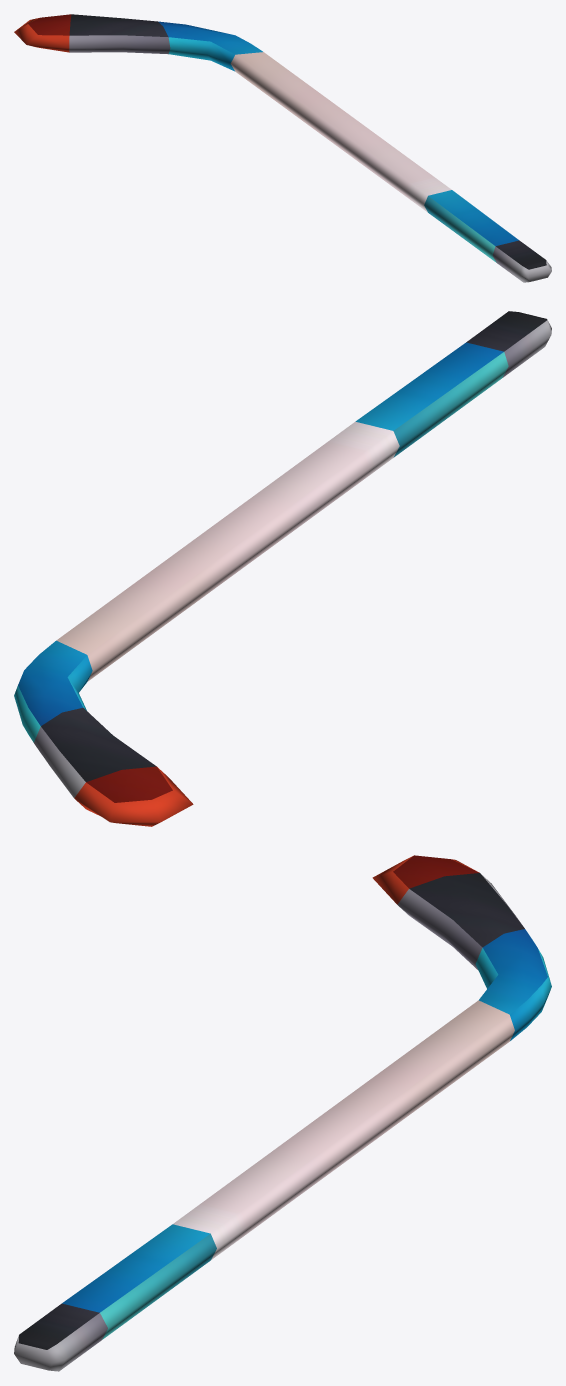
File: hockey.fbx
The picture shows the model from 3 angles, top to bottom: view 1: azimuth 30°, elevation 25°; view 2: azimuth 150°, elevation 25°; view 3: azimuth 330°, elevation 25°; orthographic projection. The views are drawn at different scales.
Visible parts, largest first — view 1: sword3h07; view 2: sword3h07; view 3: sword3h07.
Boxes of the visible parts, bbox=[...] form: sword3h07: bbox=[14, 14, 551, 282]; sword3h07: bbox=[14, 311, 551, 826]; sword3h07: bbox=[14, 855, 551, 1371].
Size of the model in its own units: 18.62 by 2.43 by 75.43.
Materials: 1 (1 with a texture image).
